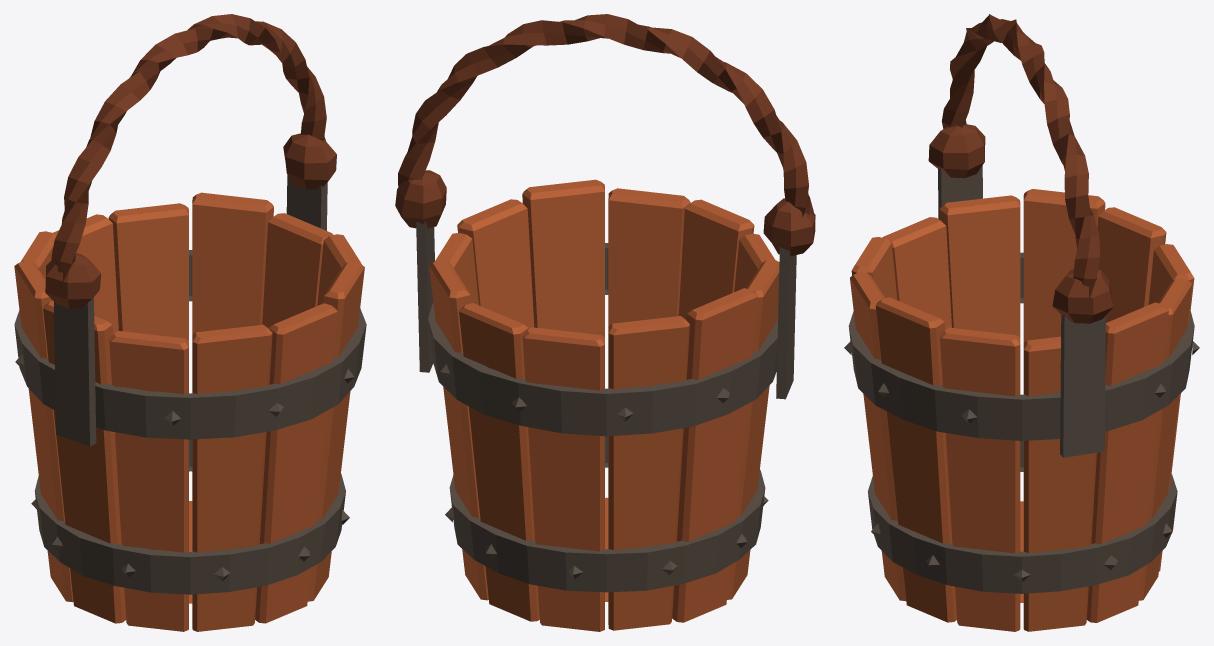
File: empty.glb
The picture shows the model from 3 angles, left to right: view 1: azimuth 30°, elevation 25°; view 2: azimuth 150°, elevation 25°; view 3: azimuth 270°, elevation 25°; orthographic projection. The views are drawn at different scales.
Parts seen in each view (by area): view 1: staves, hoops, rope_handle, ears, rope_knots, rivets; view 2: staves, hoops, rope_handle, ears, rope_knots, rivets; view 3: staves, hoops, rope_handle, ears, rope_knots, rivets.
Boxes of the visible parts, box(x1,y1,x2,y2) form: staves: box(14, 192, 364, 631); hoops: box(14, 250, 366, 594); rope_handle: box(51, 14, 326, 282); ears: box(54, 175, 327, 446); rope_knots: box(45, 133, 336, 308); rivets: box(15, 354, 354, 581); staves: box(429, 179, 779, 631); hoops: box(428, 243, 778, 592); rope_handle: box(398, 14, 815, 218); ears: box(416, 221, 796, 399); rope_knots: box(395, 170, 815, 256); rivets: box(440, 364, 768, 579); staves: box(850, 189, 1194, 631); hoops: box(848, 252, 1194, 593); rope_handle: box(941, 14, 1099, 299); ears: box(938, 165, 1105, 457); rope_knots: box(928, 124, 1113, 323); rivets: box(844, 341, 1199, 581).
Size of the model in its own units: 0.4135 by 0.6241 by 0.371.
